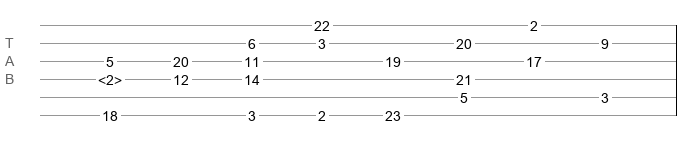11: (244, 54, 260, 64)
12: (173, 72, 189, 82)
14: (244, 72, 260, 82)
17: (526, 54, 542, 64)
18: (102, 108, 118, 118)
19: (385, 54, 401, 64)
2: (318, 108, 326, 118), (530, 18, 538, 28)
20: (173, 54, 189, 64), (456, 36, 472, 46)
21: (456, 72, 472, 82)
22: (314, 18, 330, 28)
23: (385, 108, 401, 118)
3: (248, 108, 256, 118), (318, 36, 326, 46), (601, 90, 609, 100)
5: (106, 54, 114, 64), (460, 90, 468, 100)
6: (248, 36, 256, 46)
9: (601, 36, 609, 46)
harmonic: (98, 72, 122, 82)
